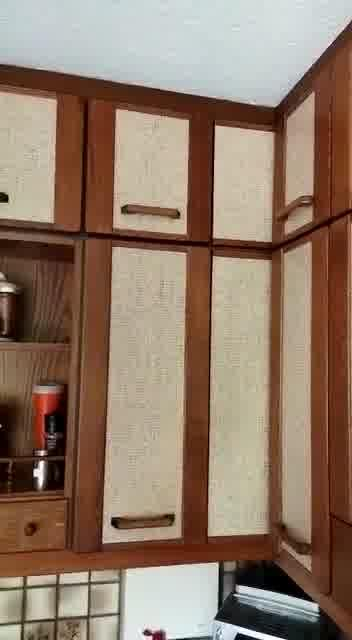cabinet_door: (85, 242, 205, 545), (274, 246, 336, 574), (89, 97, 208, 245), (274, 91, 336, 235), (0, 497, 67, 552)
handle: (272, 518, 323, 566), (117, 195, 183, 226), (273, 192, 321, 233), (110, 509, 177, 533), (21, 515, 41, 543)
